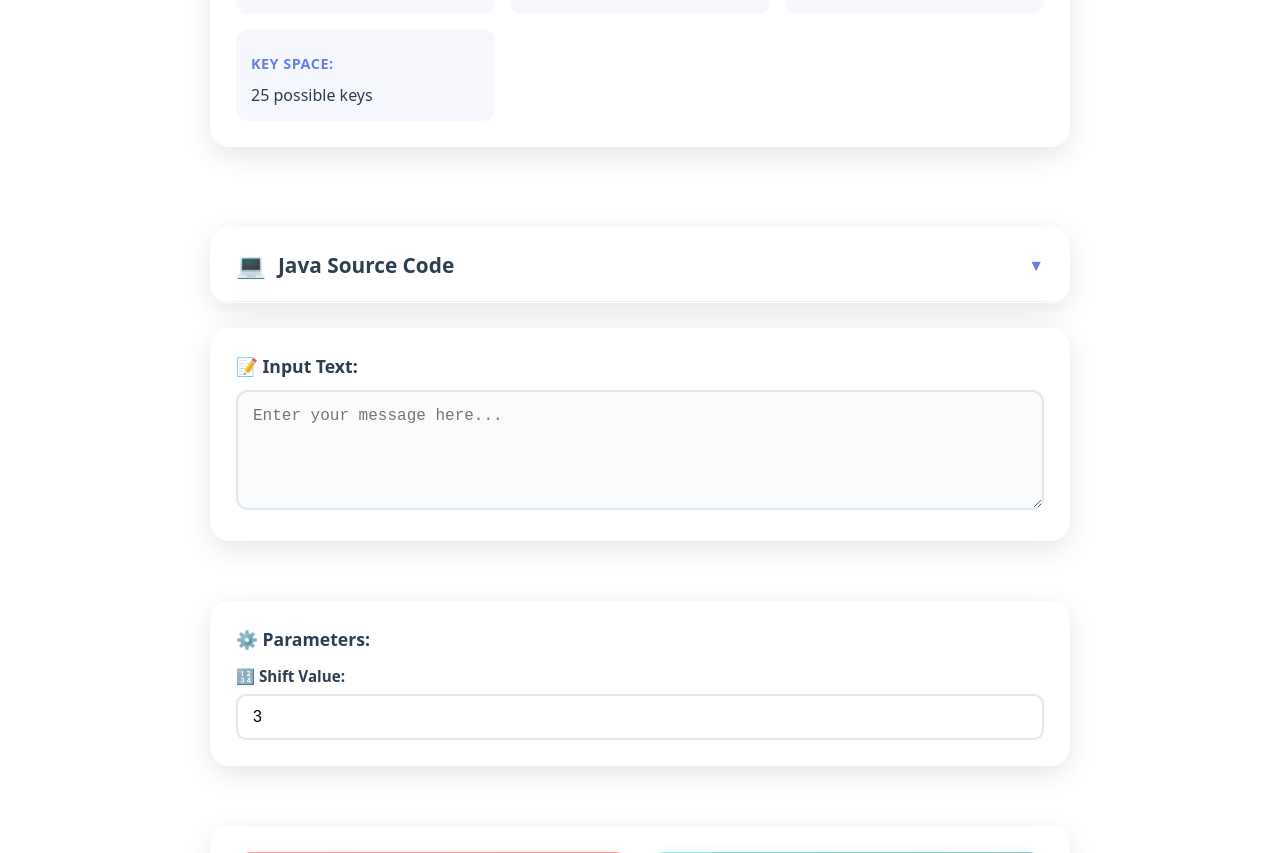
CipherApp › encrypts with Caesar cipher
(page scrolled)
Step 1. Type "A" into the text box with placeholder "Enter your message here..." → (640, 450), box [236,390,1044,510]
(page scrolled)
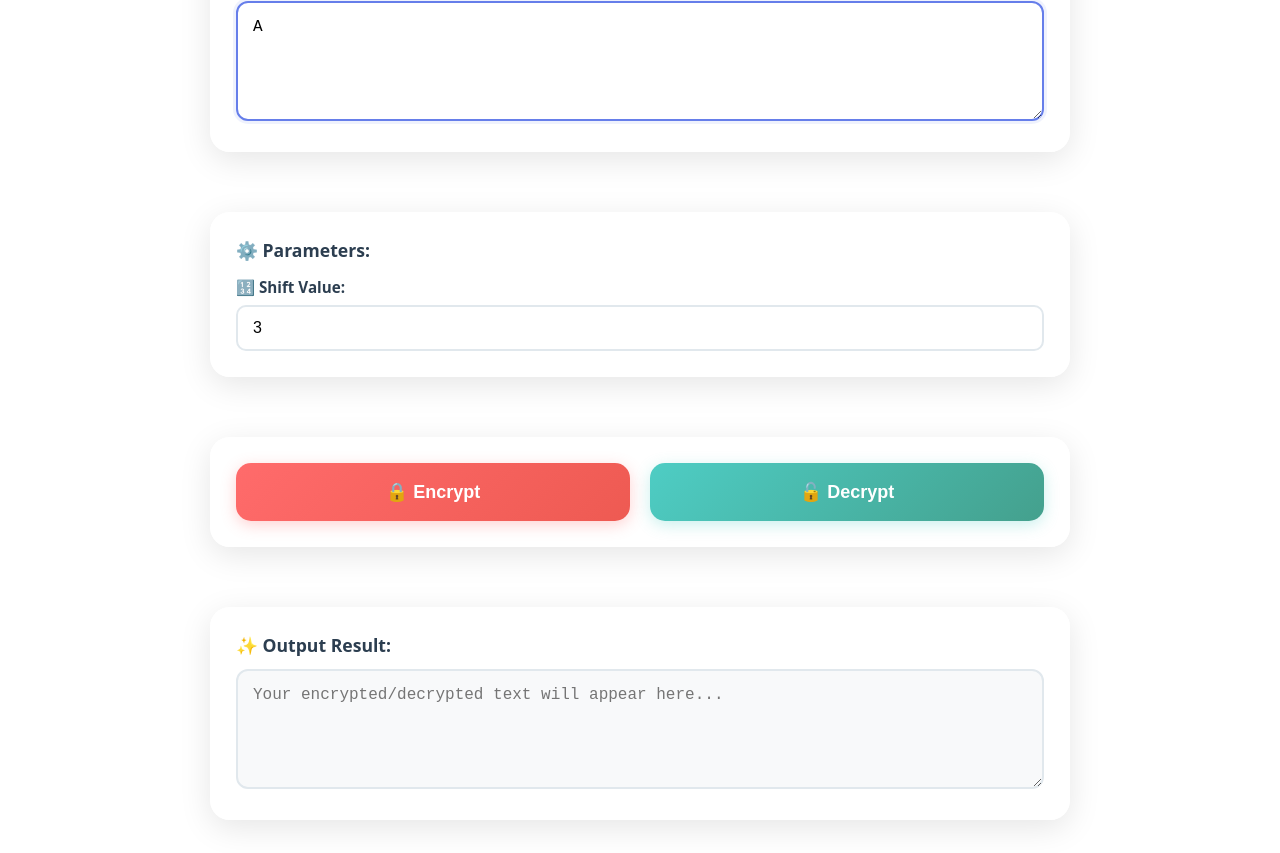
Step 2. Click the button "🔒 Encrypt" → (433, 492), box [236,463,630,521]
Wait 900 ms
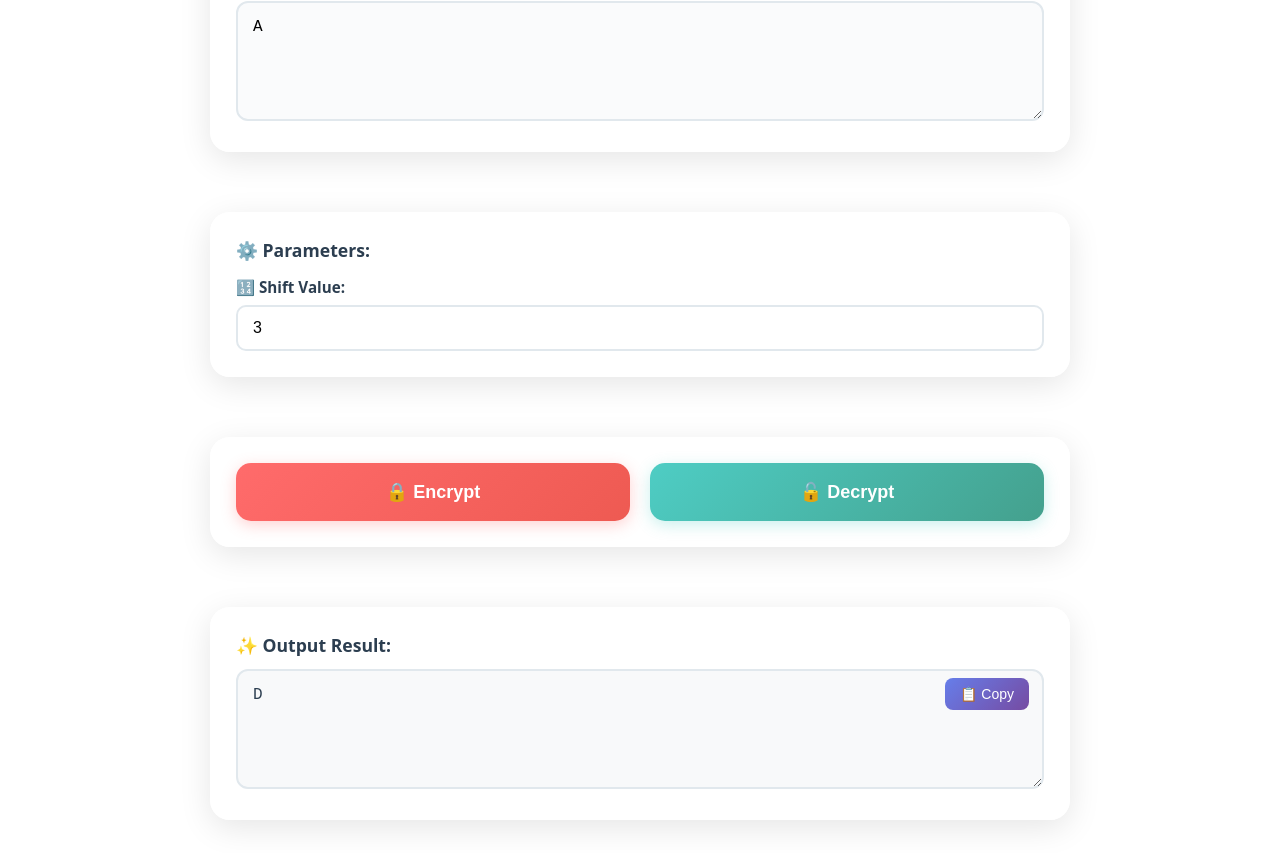
Expected: the text box with placeholder "Your encrypted/decrypted text will appear here..." below "✨ Output Result:" holds "D", [236,669,1044,789]
